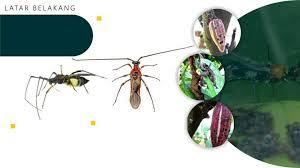Helopeltis-insect: (125, 58, 148, 110), (46, 72, 89, 87), (201, 61, 217, 90)
